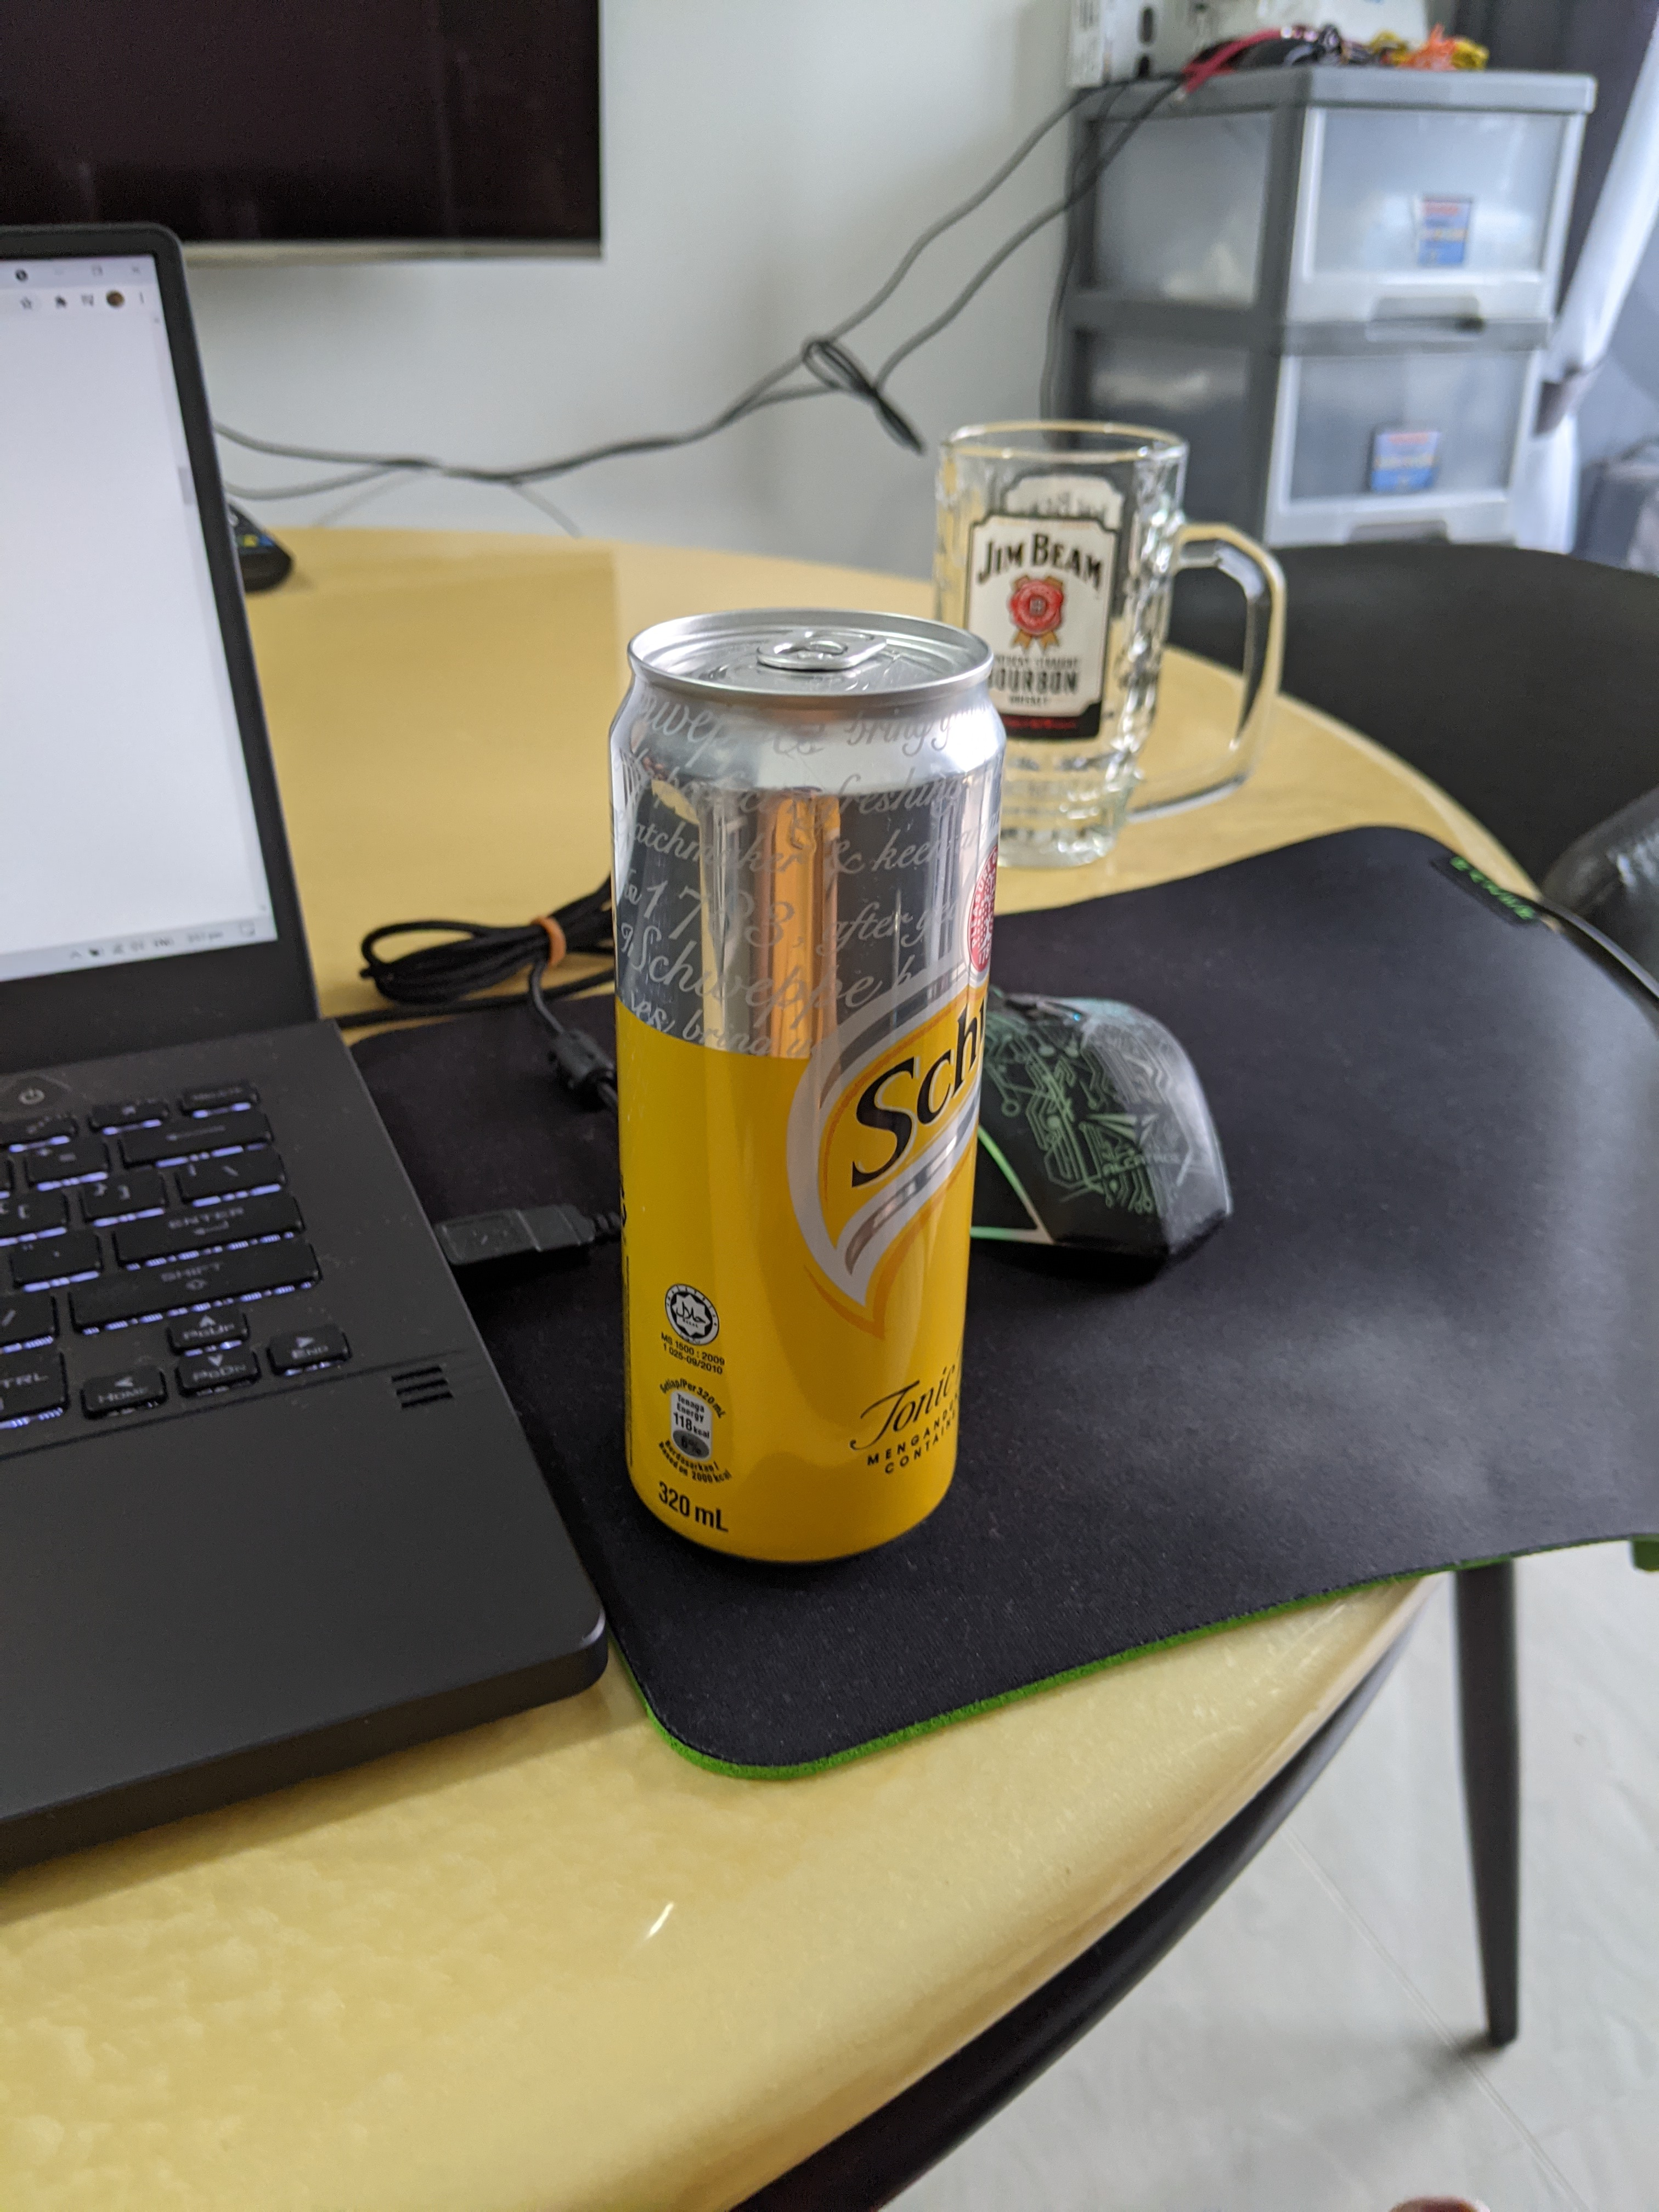schweppes drink can tonic water: (586, 592, 1030, 1623)
